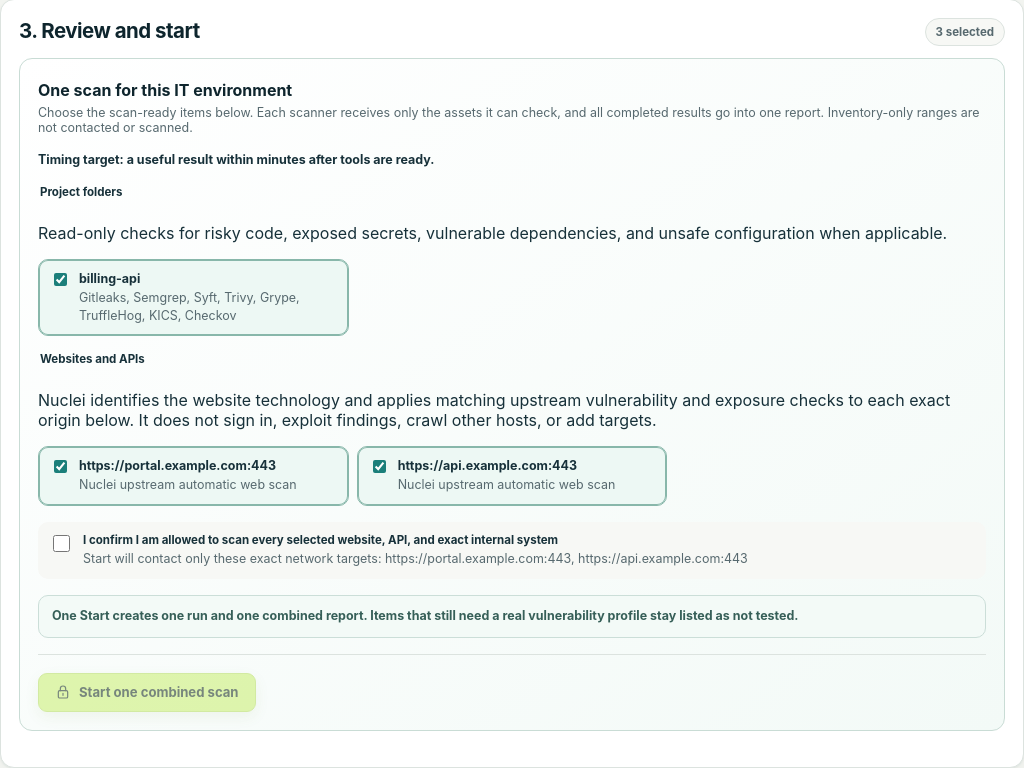
Scenario: changing the selected environment network targets requires authorization again
(page scrolled)
Expected: the button "Start one combined scan" is disabled, [38, 673, 256, 712]
What coordinates should you click on to do the following:
click the checkbox named "I confirm I am allowed to scan every selected website, API, and exact internal system"
I would click on:
 (62, 543)
Its box is [53, 535, 70, 552].
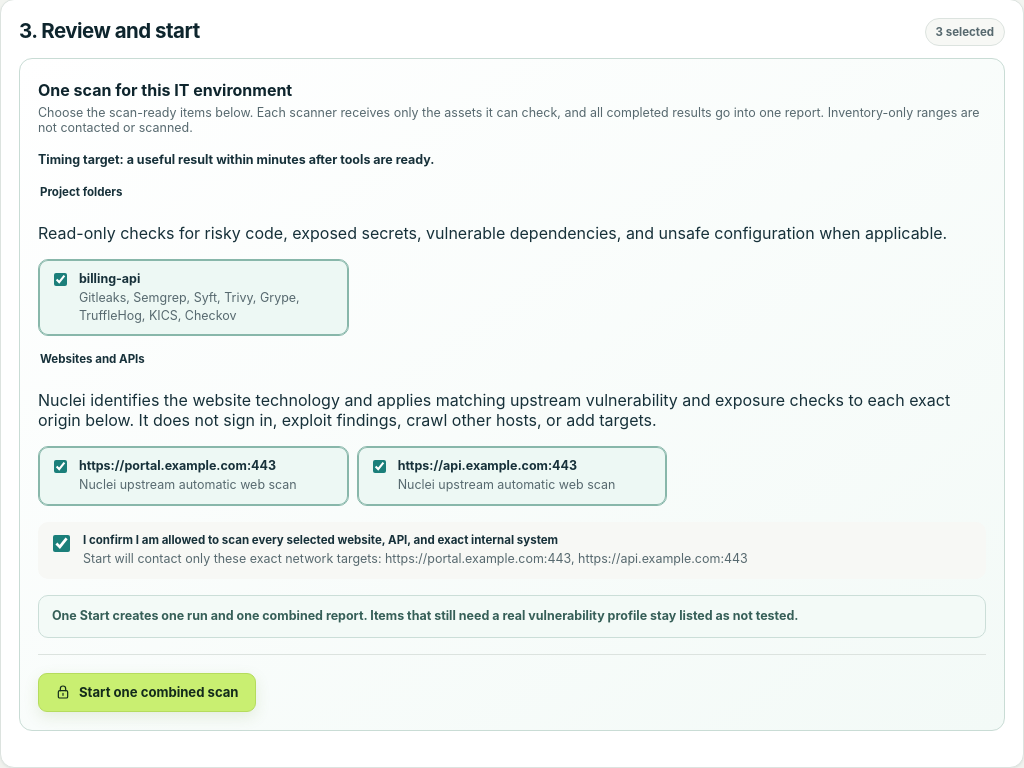
Expected: the checkbox named "I confirm I am allowed to scan every selected website, API, and exact internal system" is checked, [53, 535, 70, 552]
Expected: the button "Start one combined scan" is enabled, [38, 673, 256, 712]
What coordinates should you click on to do the following:
click the checkbox named "Choose billing-api"
I would click on:
 (60, 280)
Its box is [54, 274, 67, 286].
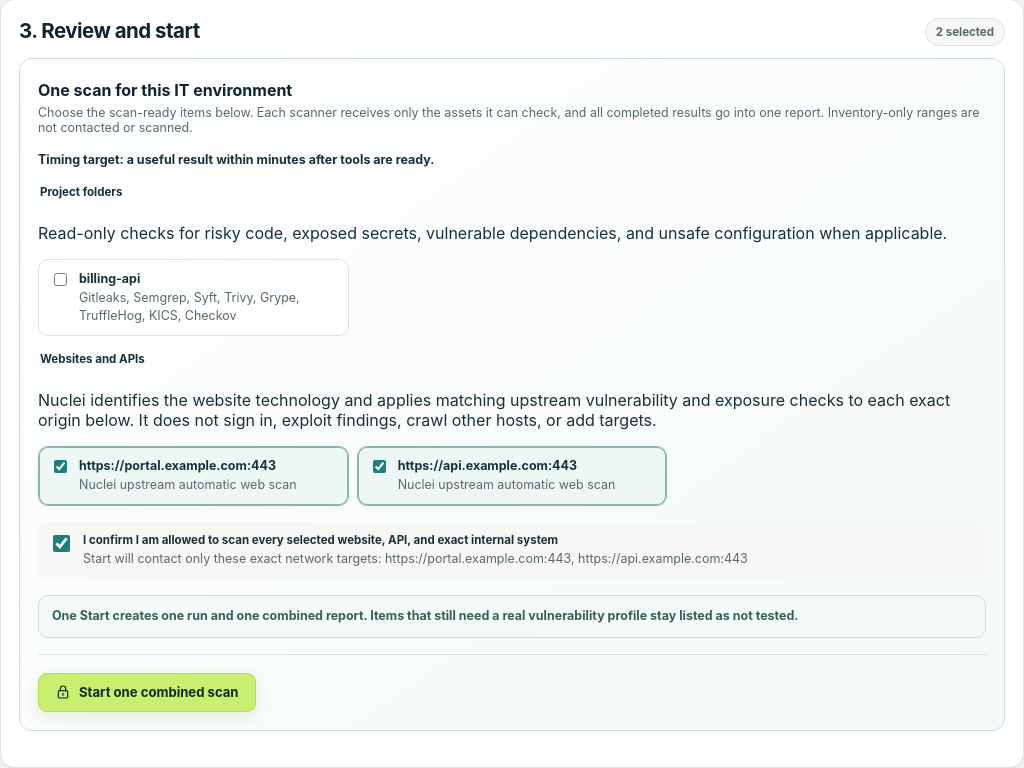
Expected: the checkbox named "I confirm I am allowed to scan every selected website, API, and exact internal system" is checked, [53, 535, 70, 552]
Expected: the button "Start one combined scan" is enabled, [38, 673, 256, 712]
What coordinates should you click on to do the following:
click the checkbox named "Choose https://portal.example.com:443"
I would click on:
 (60, 467)
Its box is [54, 460, 67, 473].
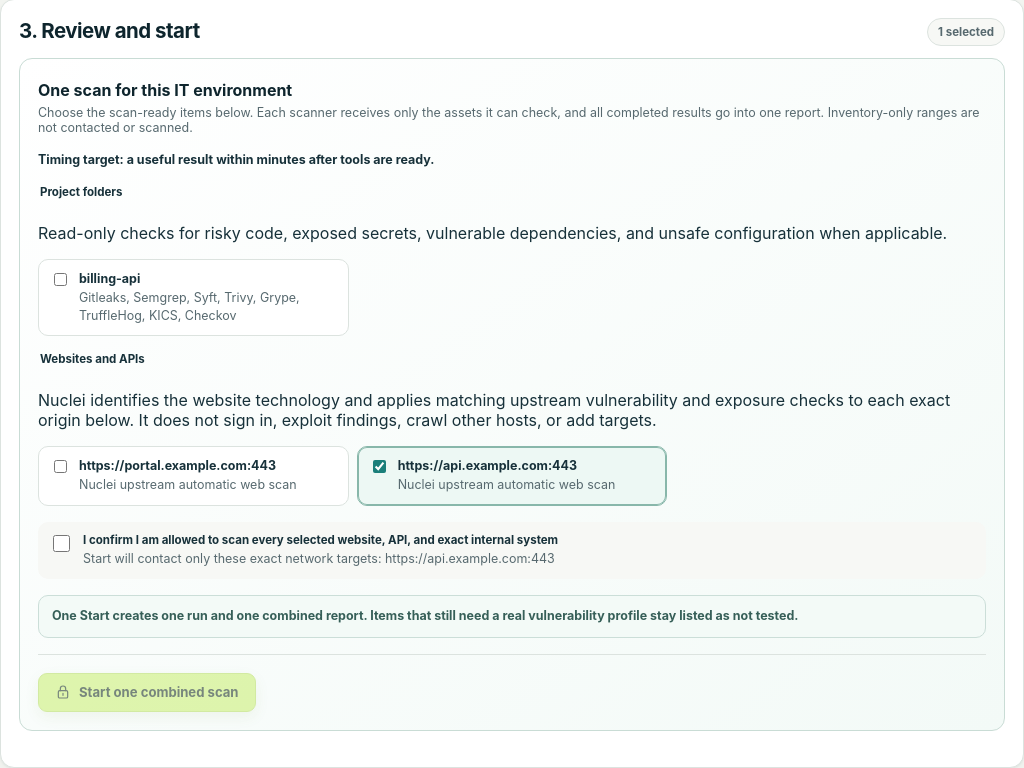
Expected: the checkbox named "I confirm I am allowed to scan every selected website, API, and exact internal system" is not checked
Expected: the button "Start one combined scan" is disabled, [38, 673, 256, 712]
What coordinates should you click on to do the following:
click the checkbox named "I confirm I am allowed to scan every selected website, API, and exact internal system"
I would click on:
 (62, 543)
Its box is [53, 535, 70, 552].
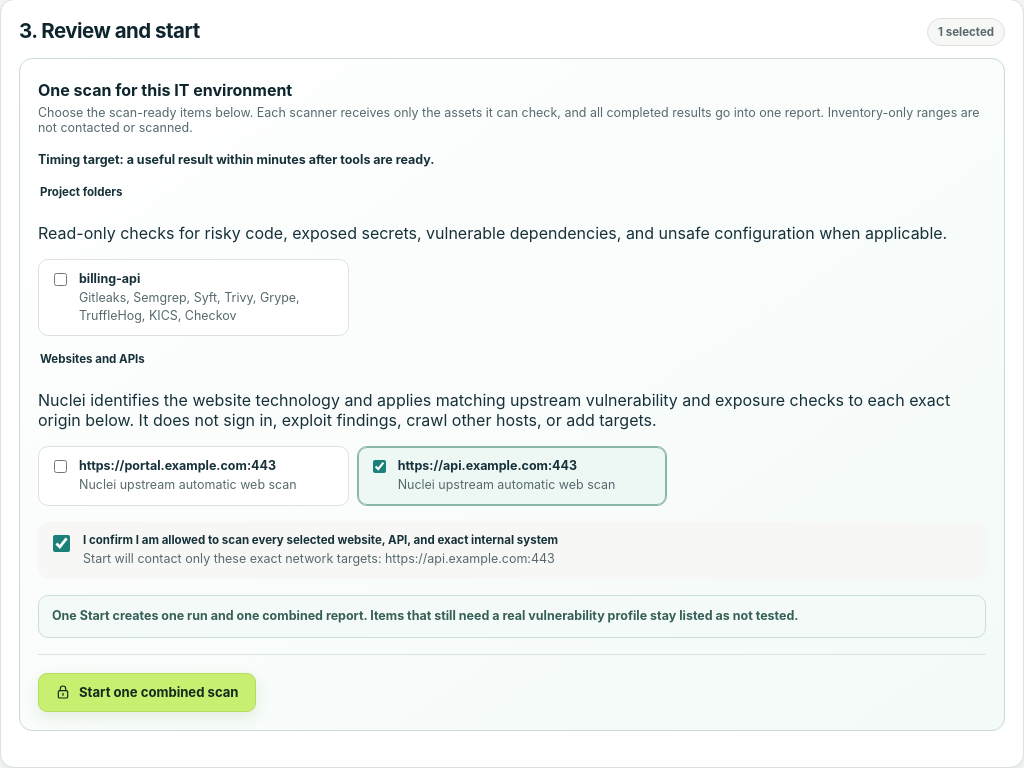
Expected: the button "Start one combined scan" is enabled, [38, 673, 256, 712]
What coordinates should you click on to do the following:
click the checkbox named "Choose https://portal.example.com:443"
I would click on:
 (60, 467)
Its box is [54, 460, 67, 473].
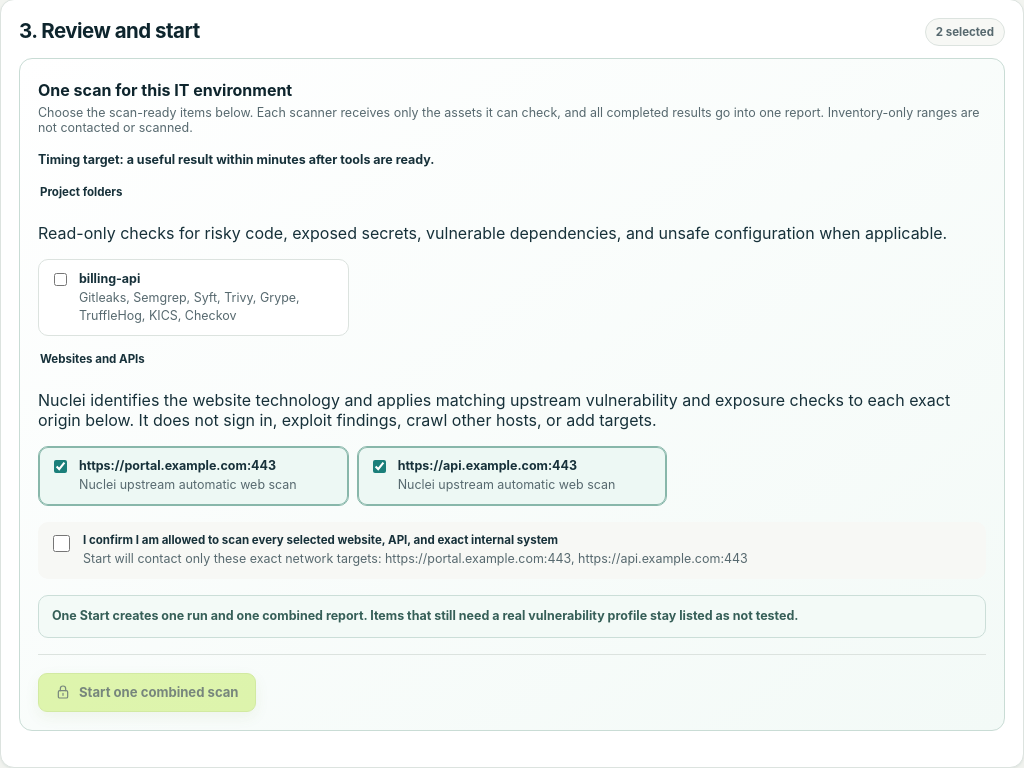
Expected: the checkbox named "I confirm I am allowed to scan every selected website, API, and exact internal system" is not checked, [53, 535, 70, 552]
Expected: the button "Start one combined scan" is disabled, [38, 673, 256, 712]
